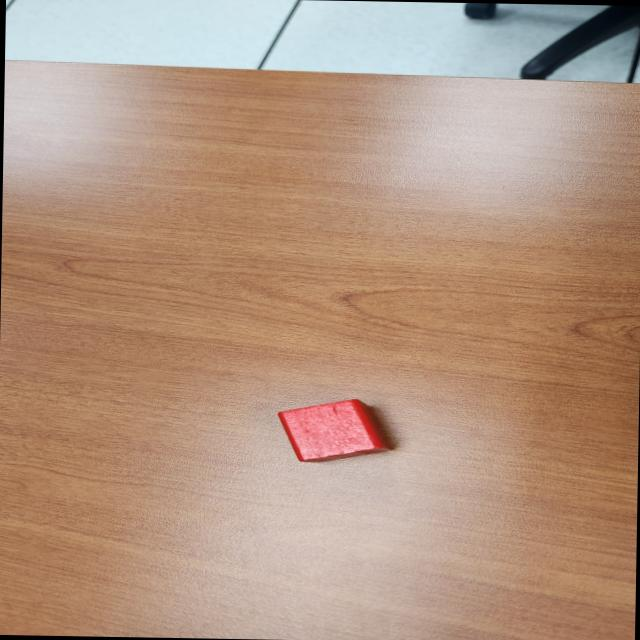red: (276, 398, 396, 464)
